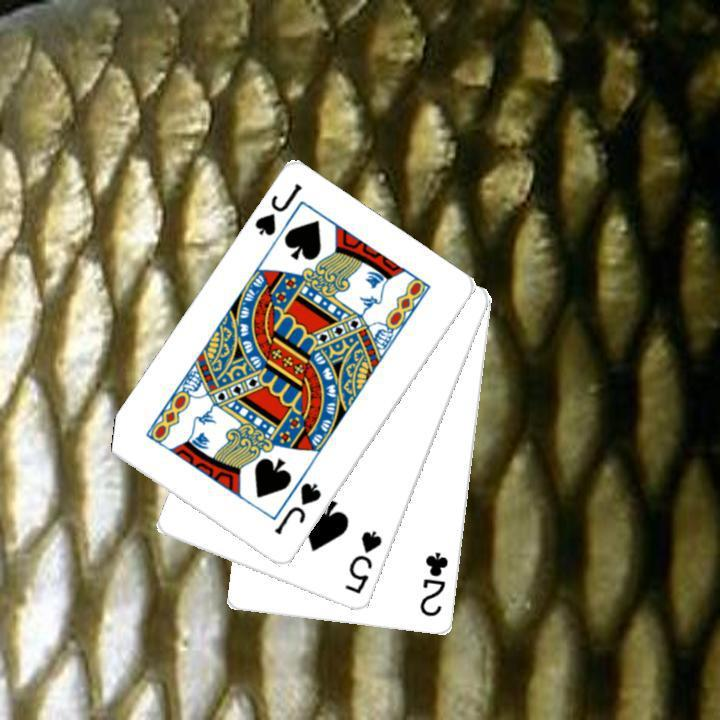2: (416, 548, 451, 619)
5: (341, 527, 385, 597)
J: (250, 179, 305, 239), (270, 478, 324, 537)
